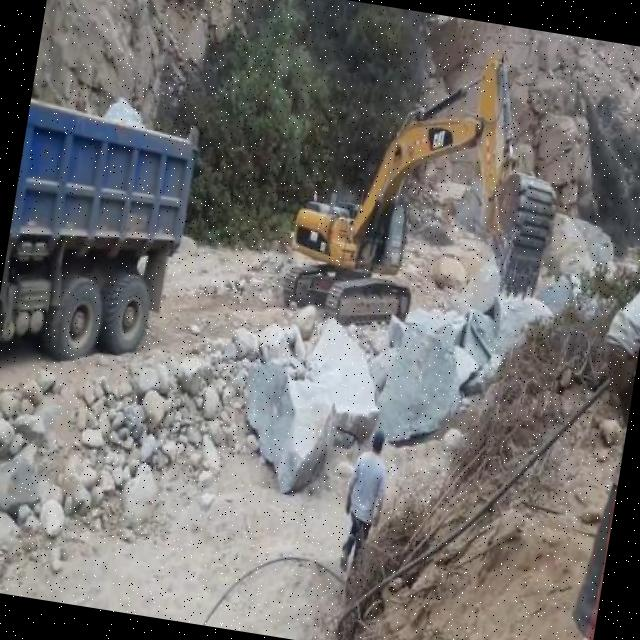Dump Truck: (0, 92, 204, 400)
Excavator: (278, 21, 579, 357)
